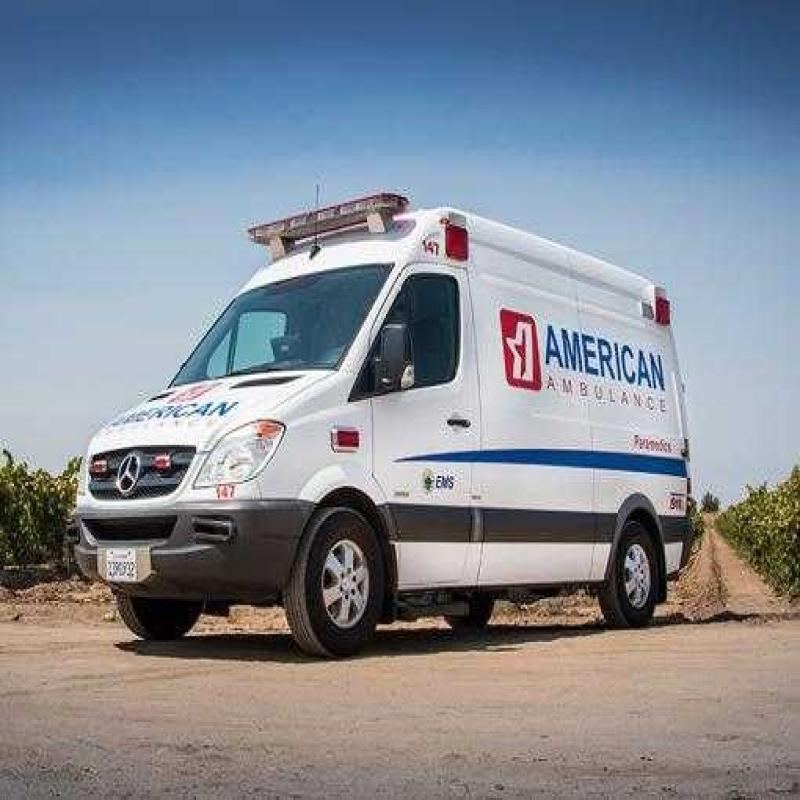AmbulanceSiren: (240, 192, 422, 248)
